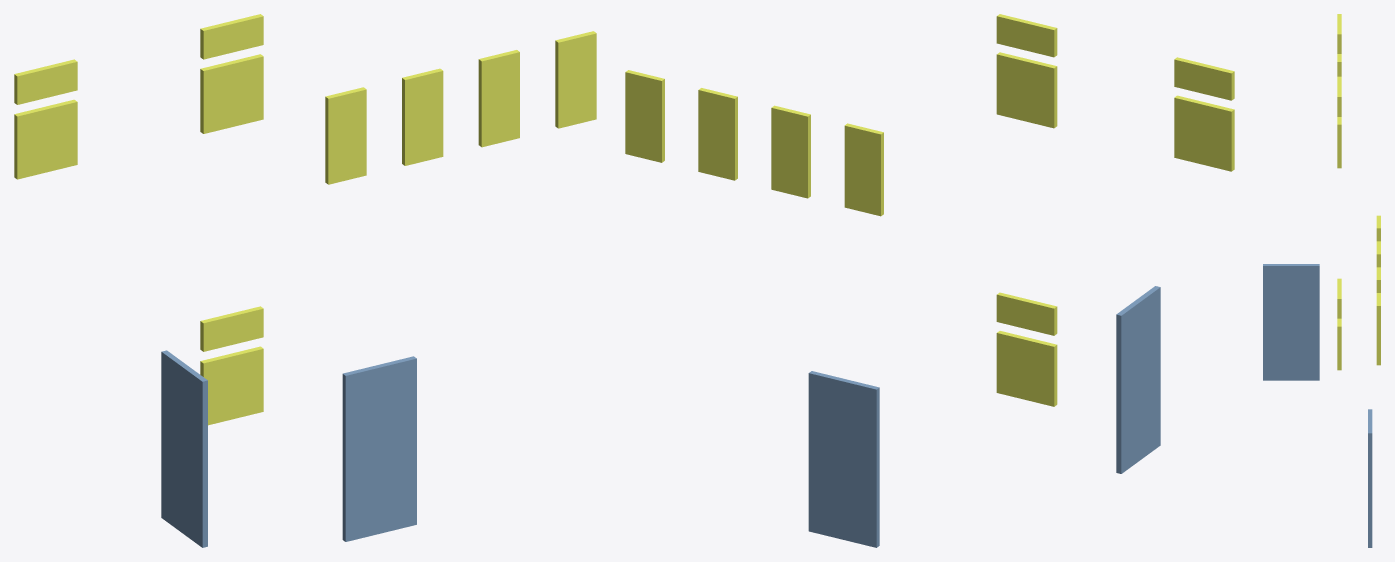
File: neon5.obj
The picture shows the model from 3 angles, left to right: view 1: azimuth 30°, elevation 25°; view 2: azimuth 150°, elevation 25°; view 3: azimuth 270°, elevation 25°; orthographic projection. The views are drawn at different scales.
Size of the model in its own units: 111 by 99 by 27.
Materials: 1 (1 with a texture image).
